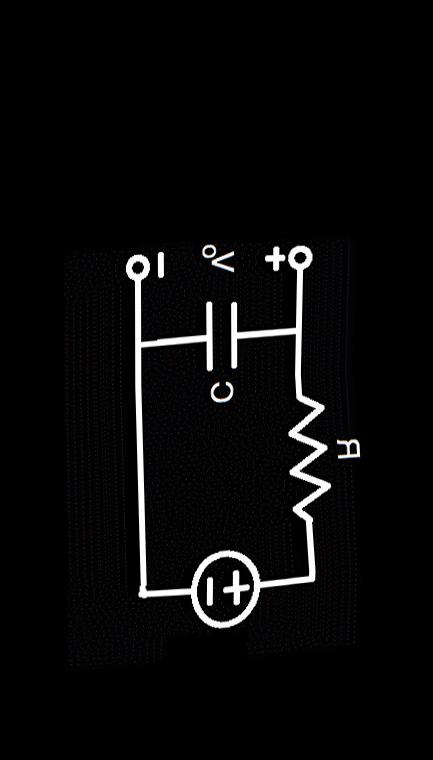Battery: (164, 539, 279, 639)
